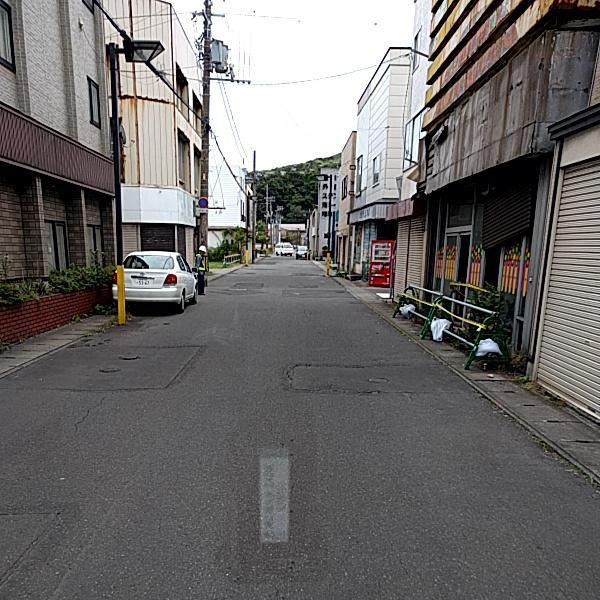D00: (68, 395, 104, 431)
